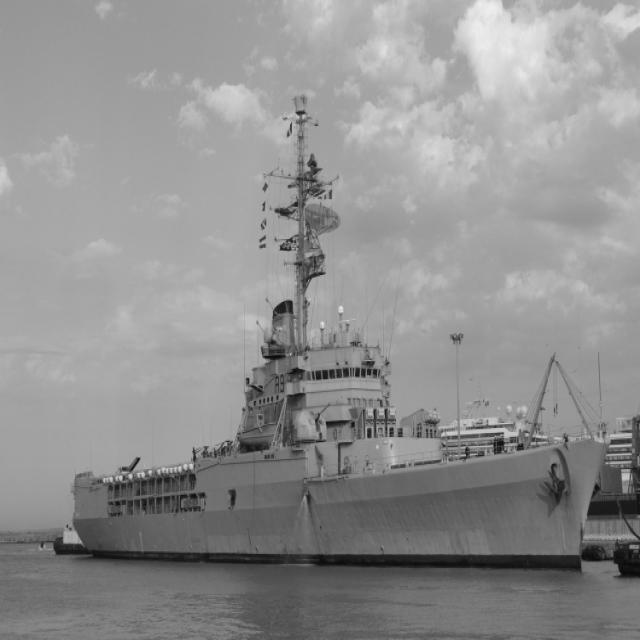Portanaves: (70, 90, 611, 578)
